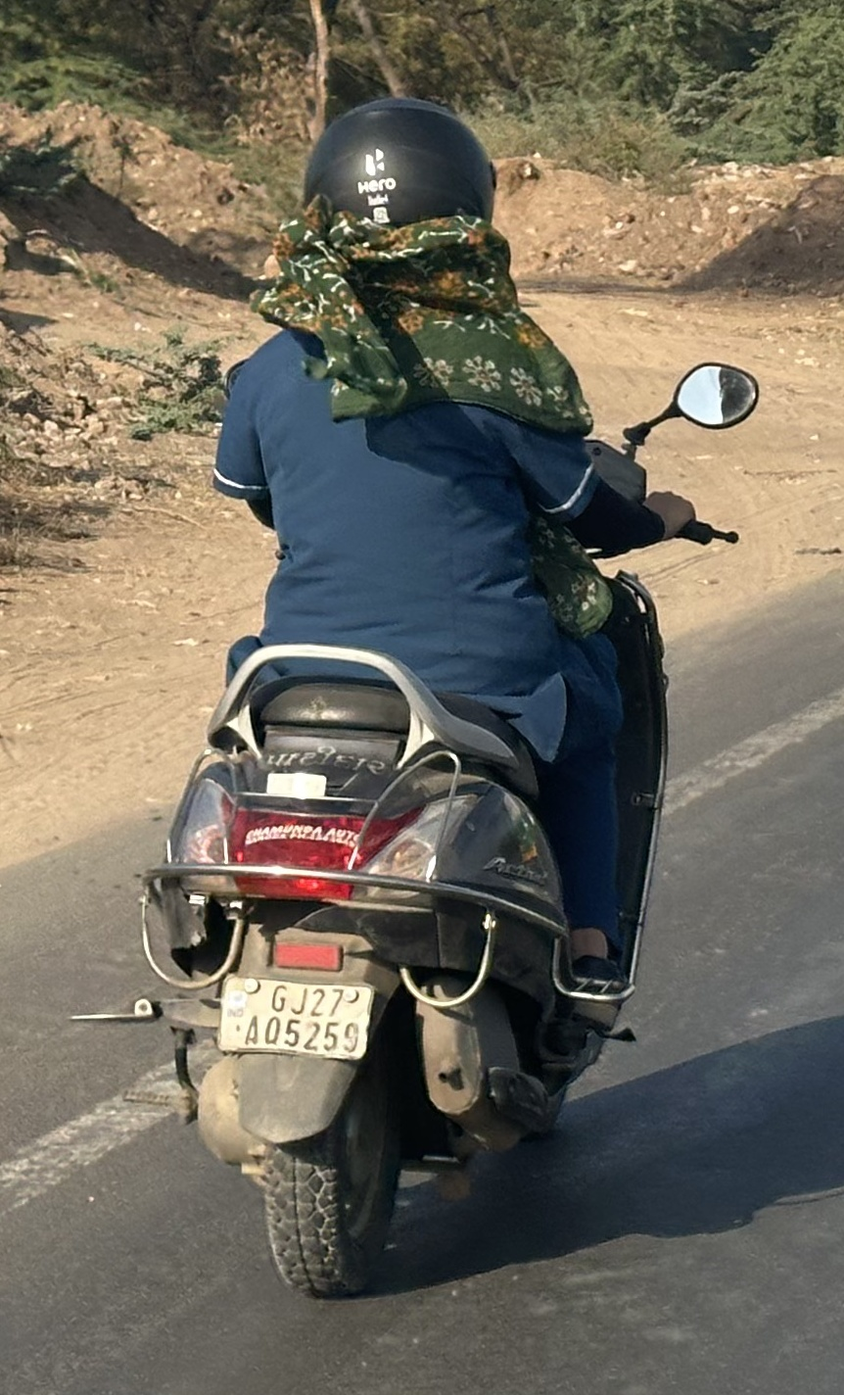BikeWithRider: (59, 82, 774, 1318)
Helmet: (283, 85, 515, 271)
